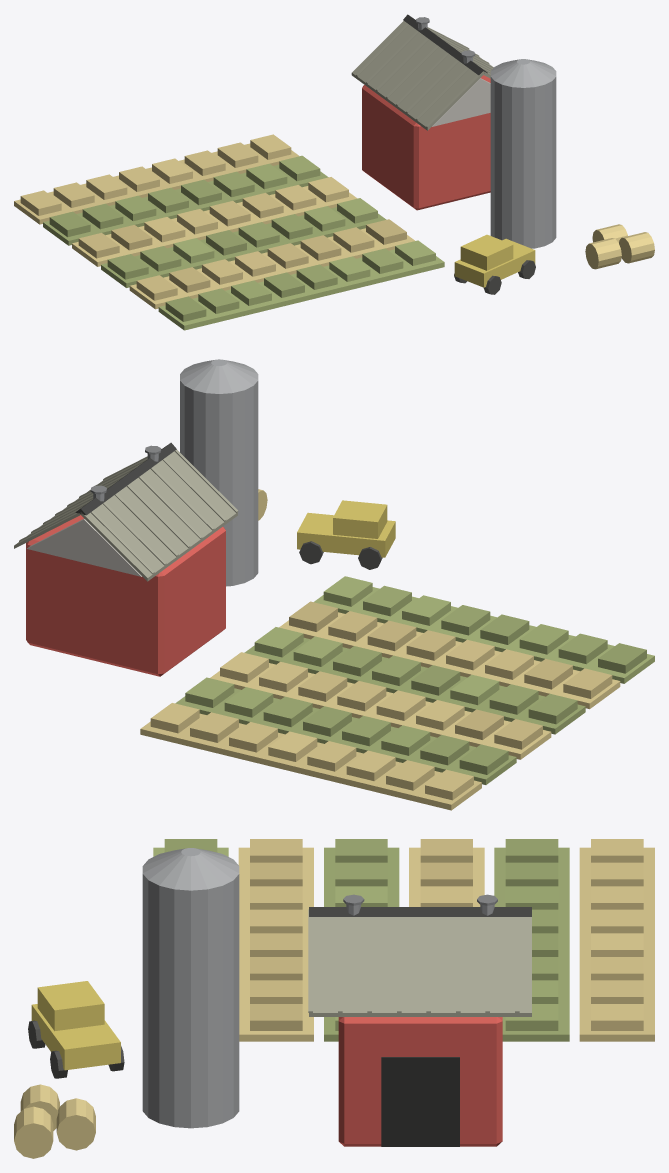
File: b_farm.glb
3 views of the same model, one above another, from view 1: azimuth 30°, elevation 25°; view 2: azimuth 150°, elevation 25°; view 3: azimuth 270°, elevation 25° (orthographic). The views are drawn at different scales.
Parts seen in each view (by area): view 1: hull; view 2: hull; view 3: hull.
Boxes of the visible parts, box(x1,y1,x2,y2) form: hull: box(14, 14, 654, 330); hull: box(14, 359, 654, 810); hull: box(14, 839, 654, 1158).
Size of the model in its own units: 21.95 by 8.6 by 19.55.
